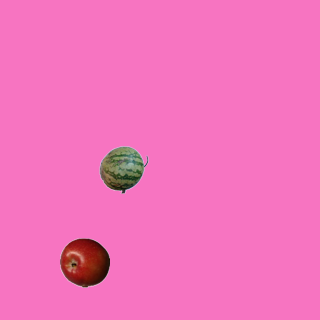Apple Braeburn: (59, 237, 109, 287)
Watermelon: (98, 144, 148, 194)
